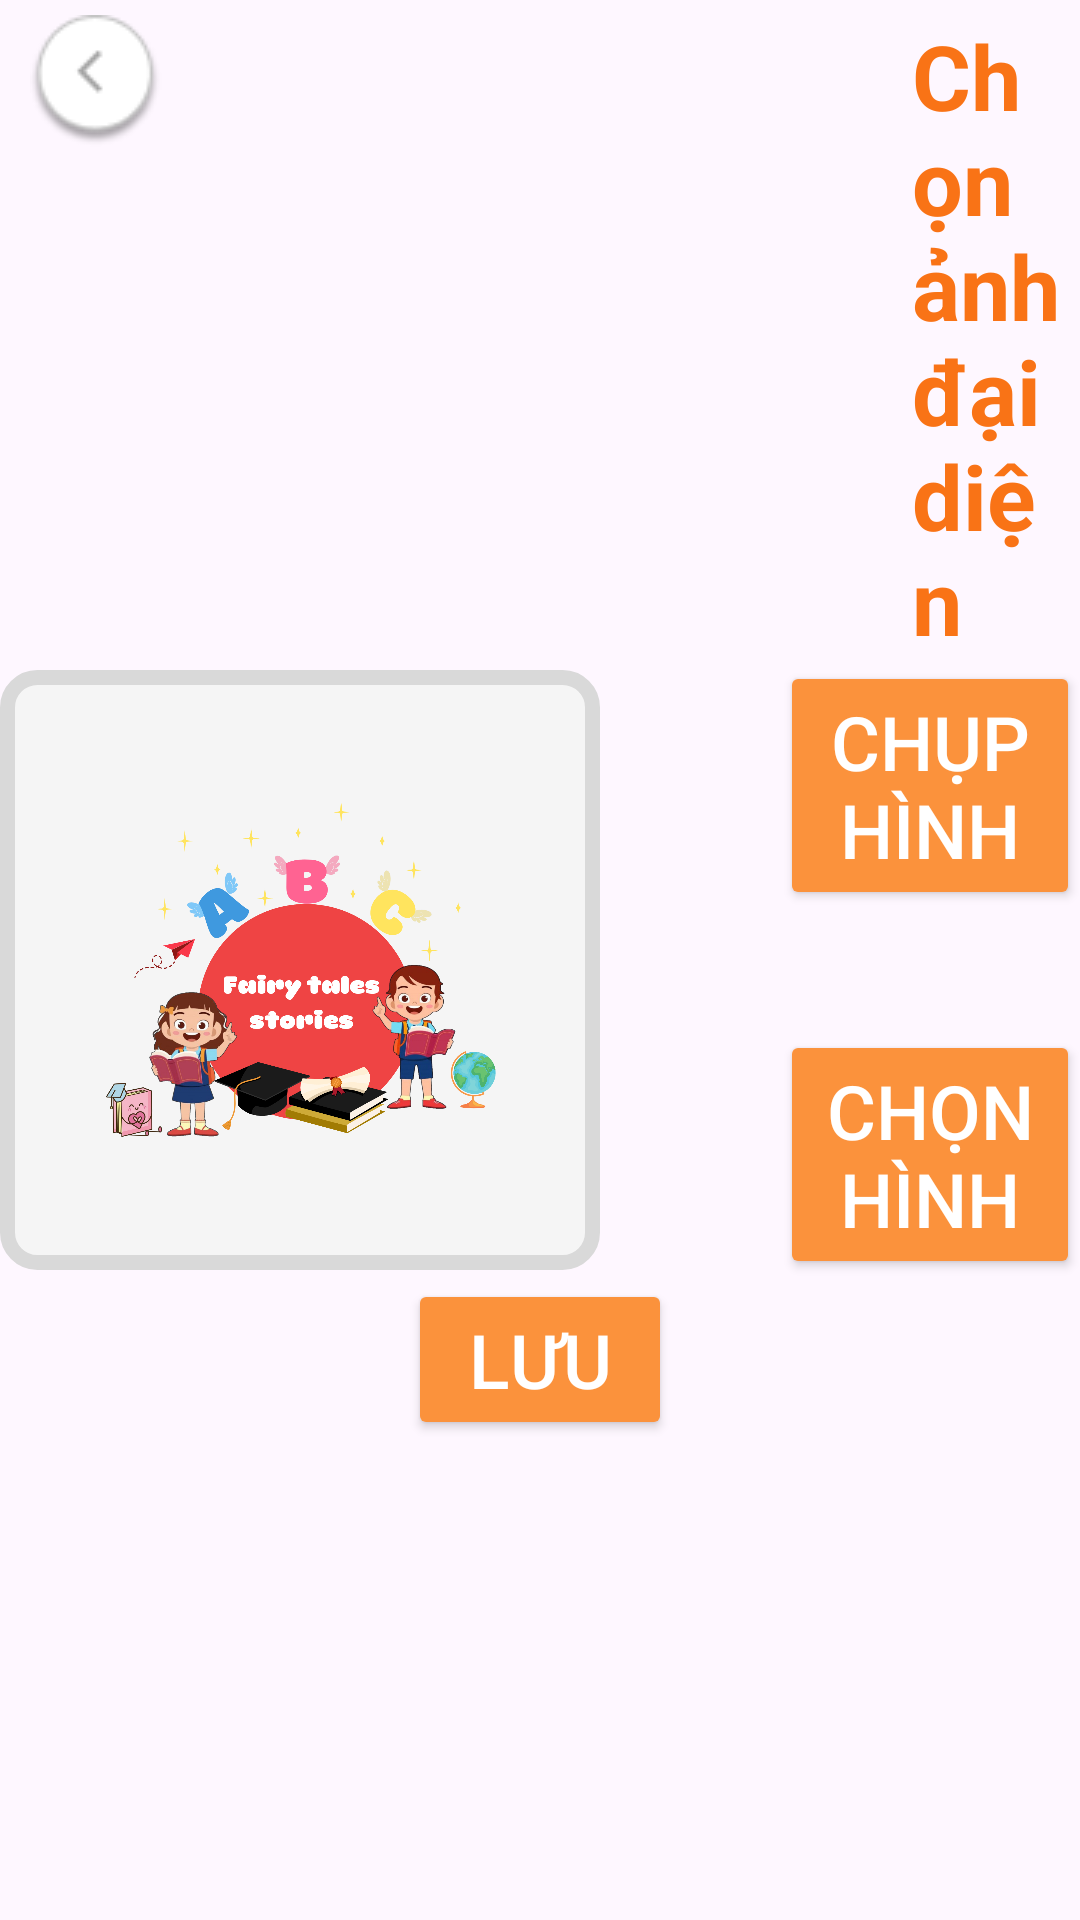

Named icons in this screenshot (1080x1920) and their centers, point (x, y):
exit: point (95, 78)
